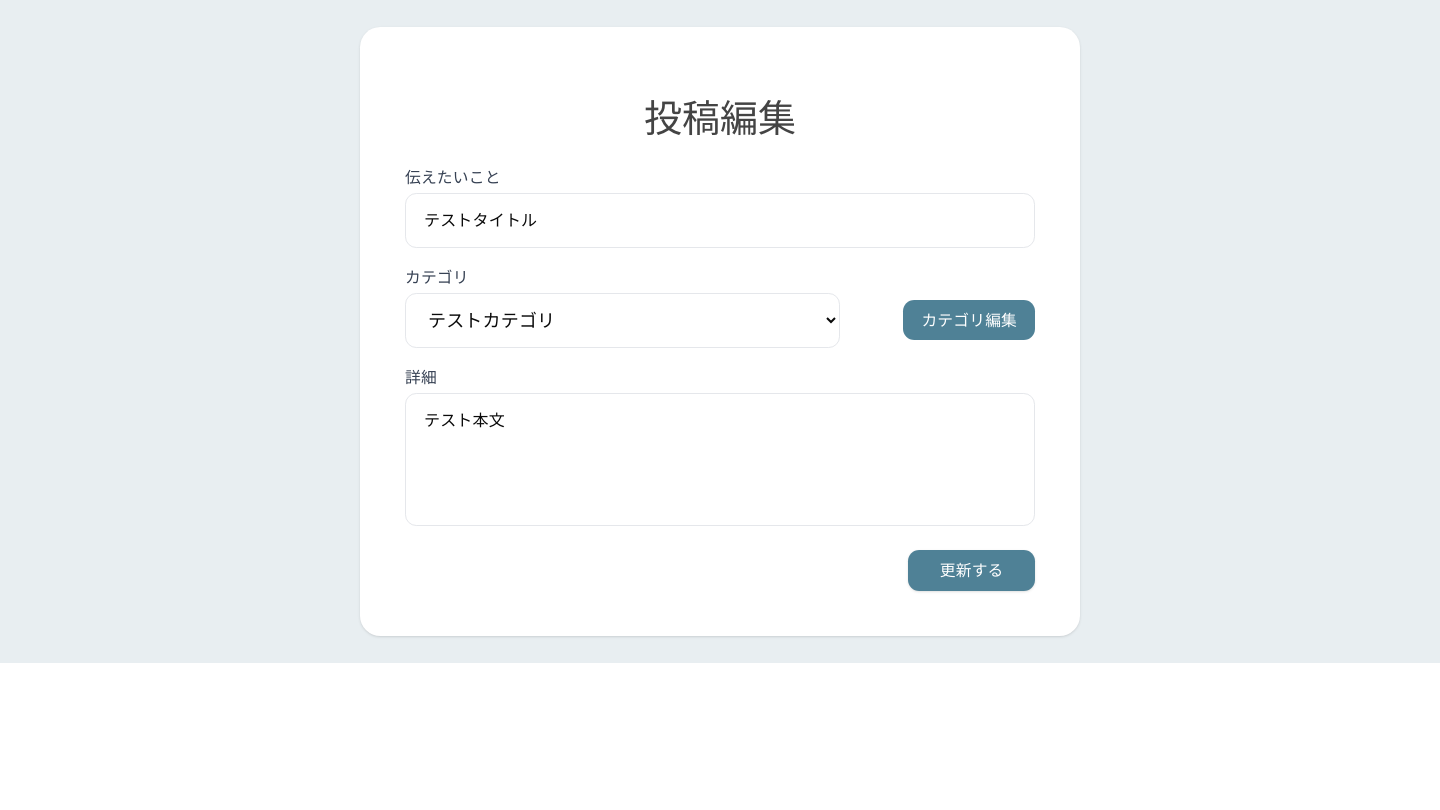
Test: PostUpdate › 正常に更新すると一覧画面に遷移する
Replace the text in the field showing "テストタイトル" with "更新タイトル": [720, 220] box x1=405 y1=193 x2=1035 y2=248
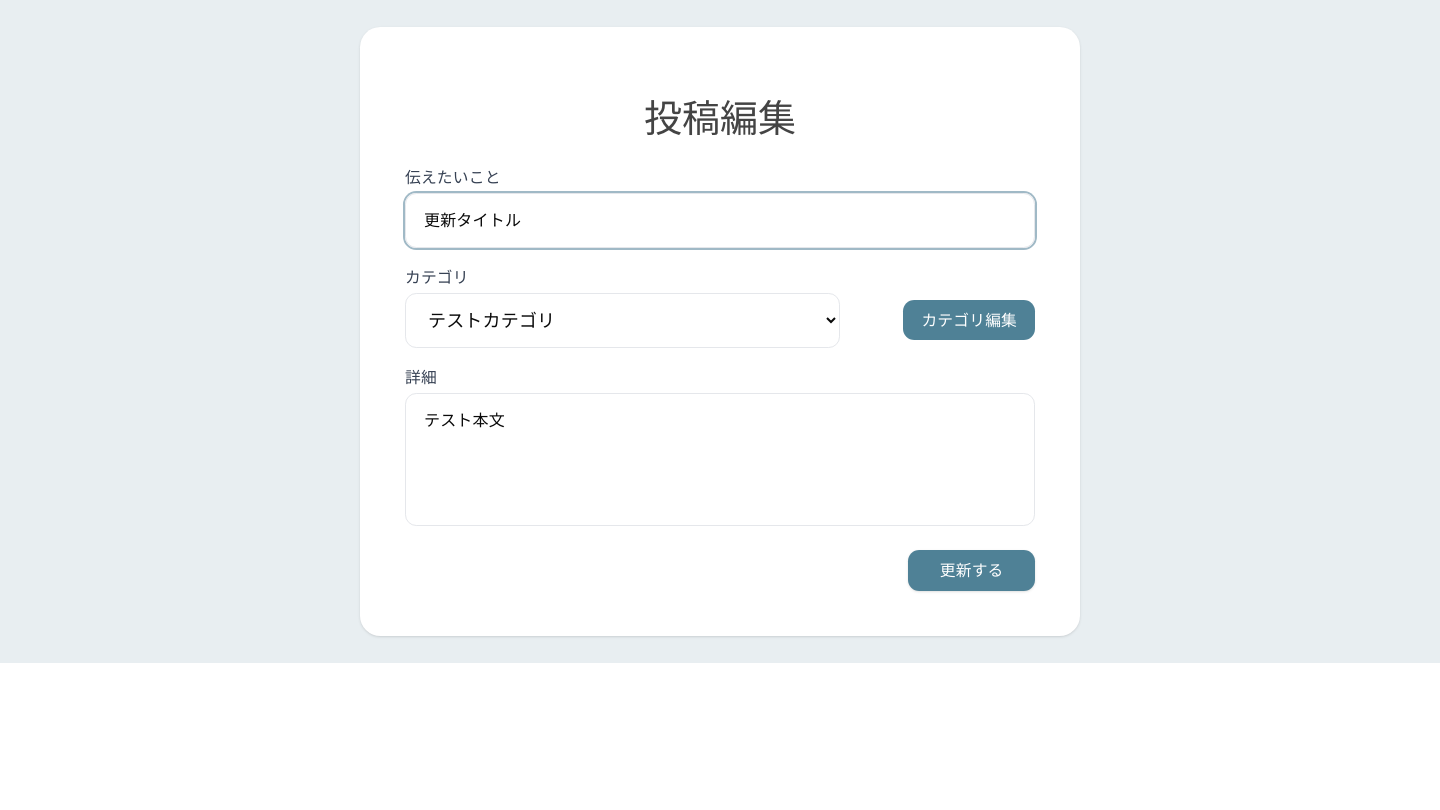
Click the button "更新する": [972, 570] box x1=908 y1=550 x2=1035 y2=591
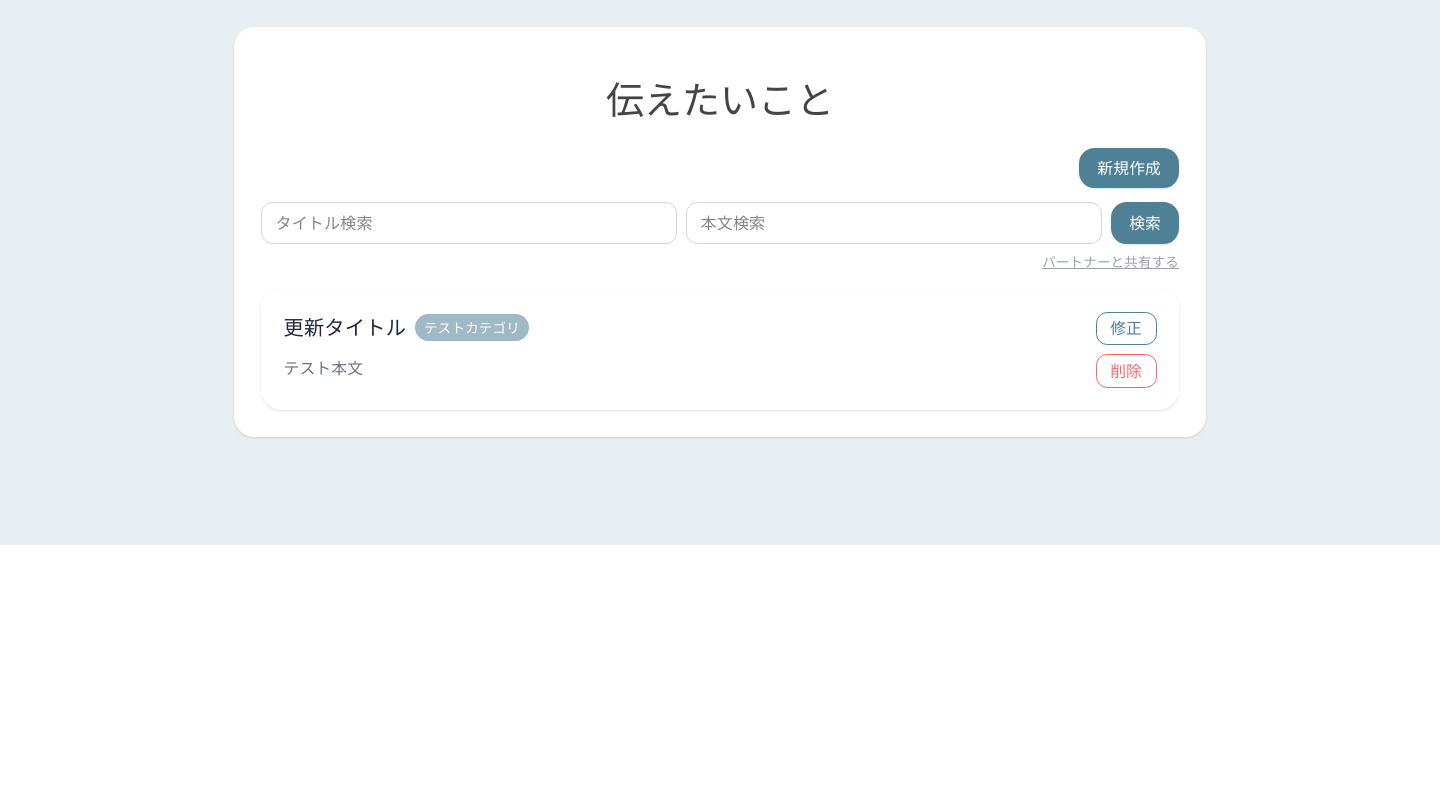
Expected: the text "更新タイトル" is shown, x1=284 y1=312 x2=406 y2=343
